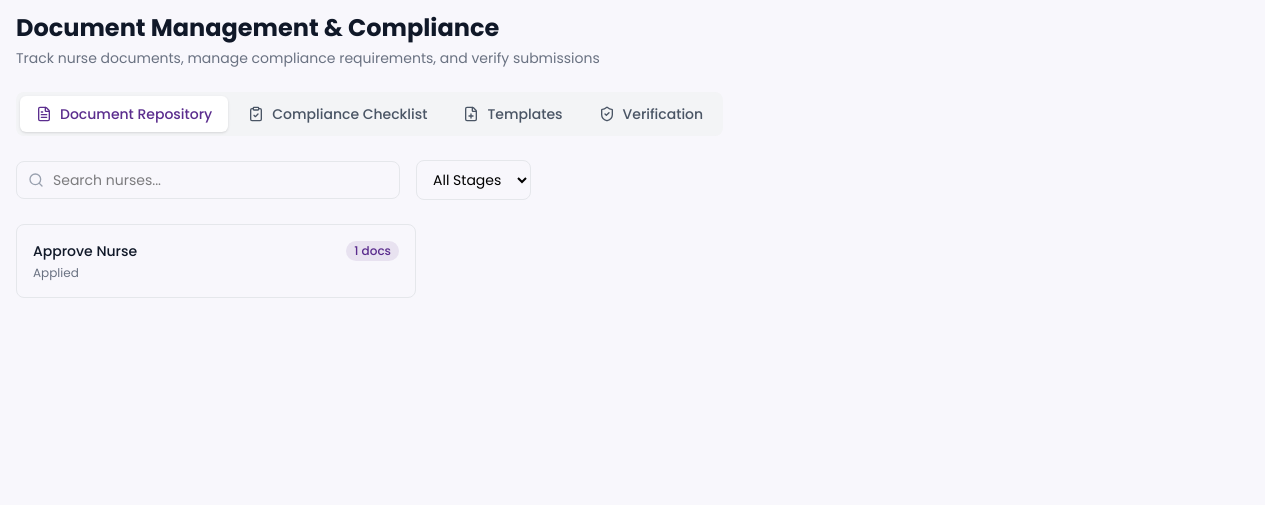
Test: Workflow integration tests › Document verification workflow › approving a document removes it from the queue
The image size is (1265, 505).
// Navigate to Verification tab
Click the button "Verification" at (651, 114), box [582, 96, 719, 132]
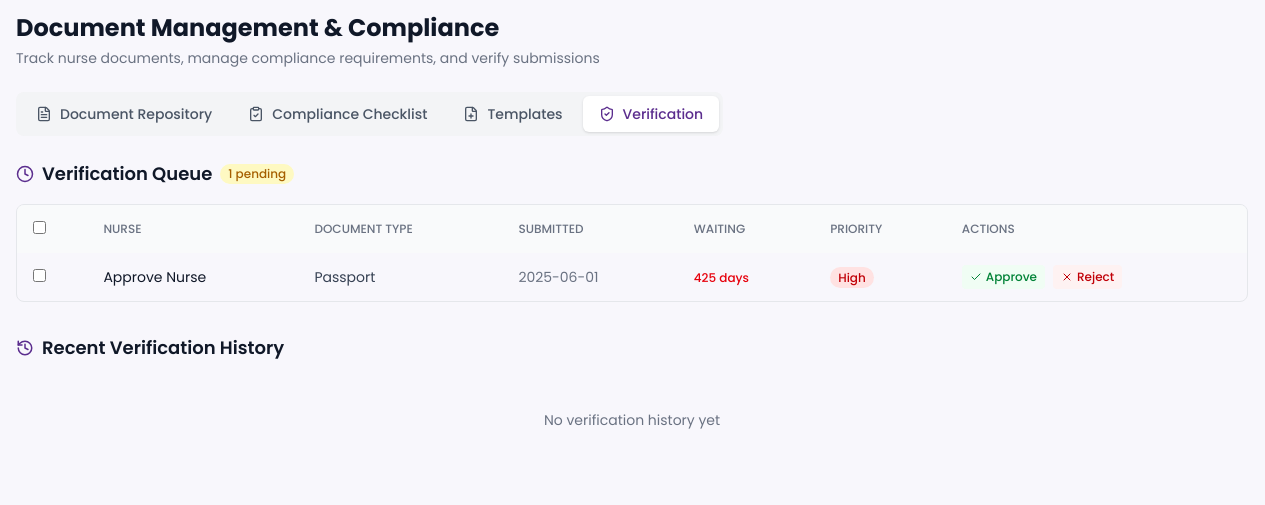
Expected: the text "Approve Nurse" is shown, [87, 253, 298, 301]
// Click approve button (first click opens notes)
Click the button "Approve" at (1003, 277), box [962, 265, 1045, 289]
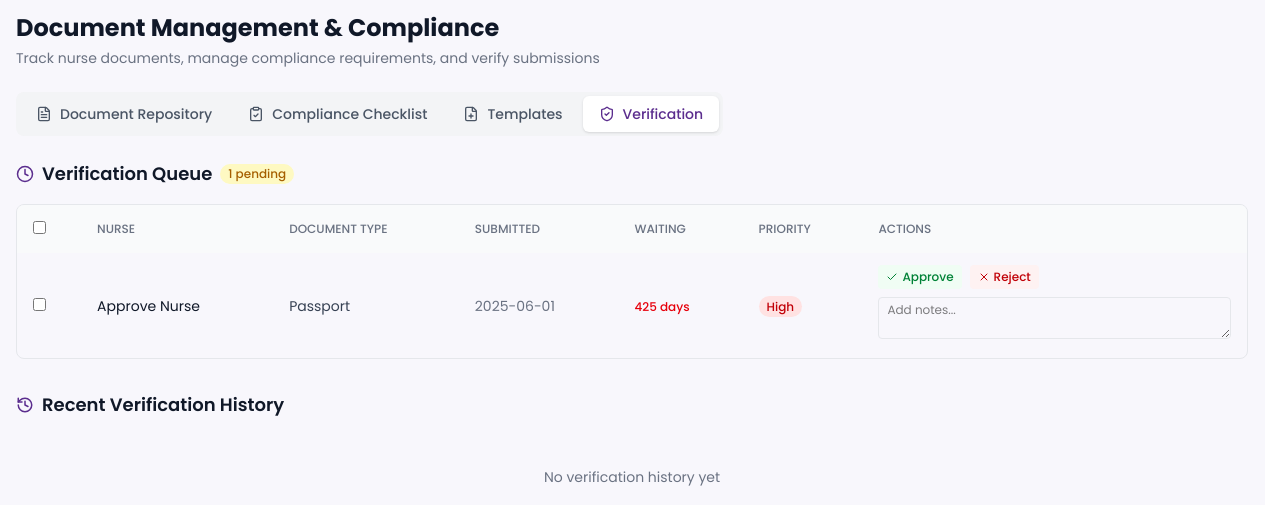
Click the button "Approve" at (920, 277), box [878, 265, 962, 289]
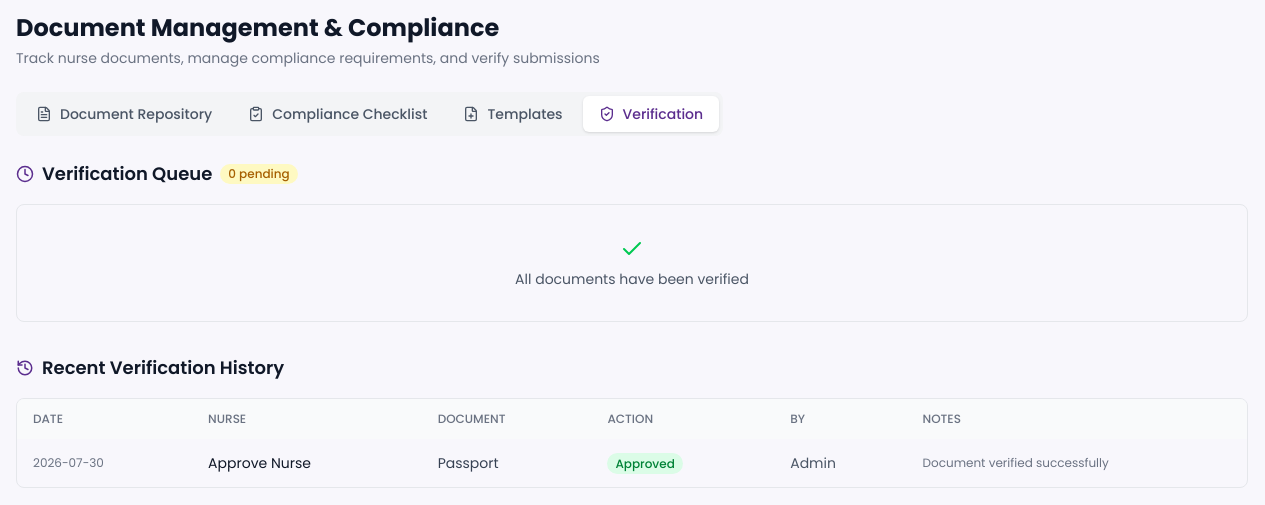
Result: the text "All documents have been verified" is shown at [515, 269, 749, 289]
